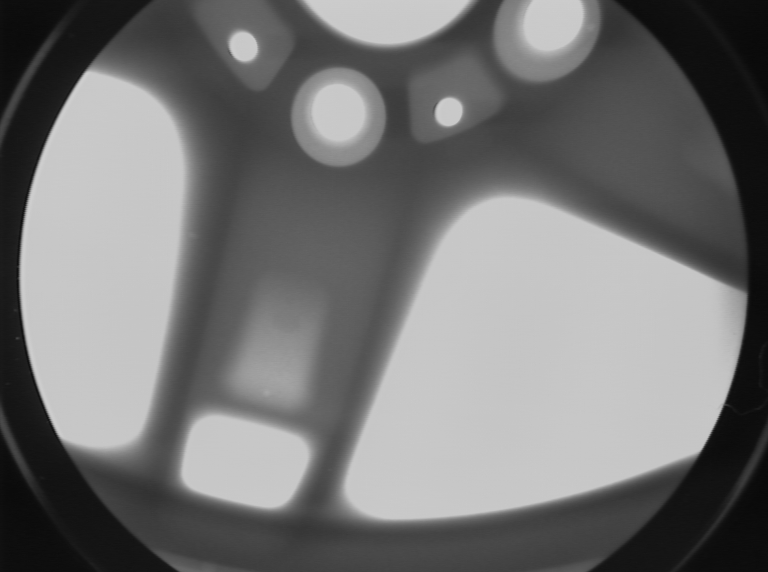defect: (260, 385, 278, 404)
